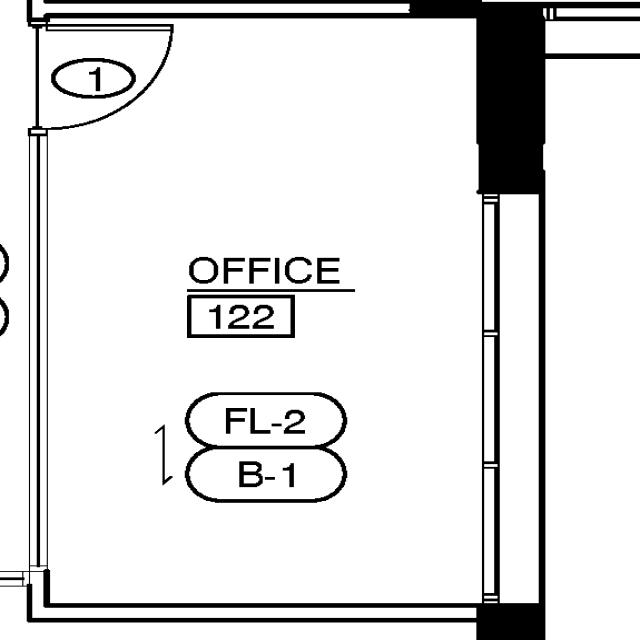Doors: (26, 19, 181, 138)
